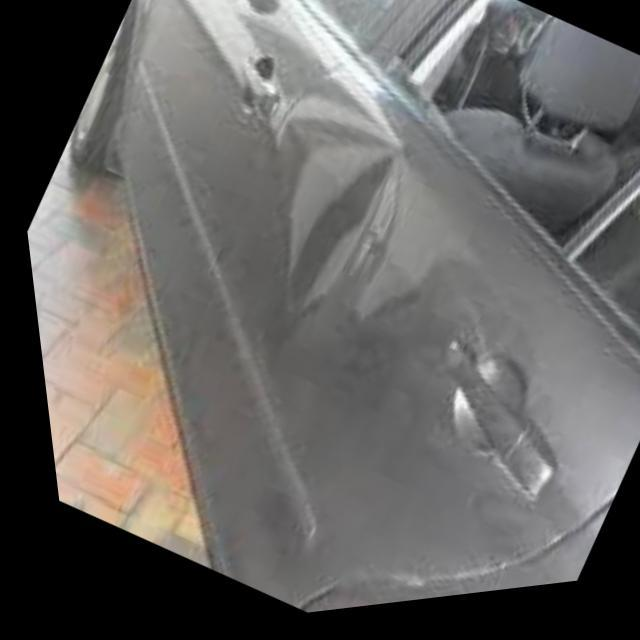dent: (261, 135, 410, 337)
